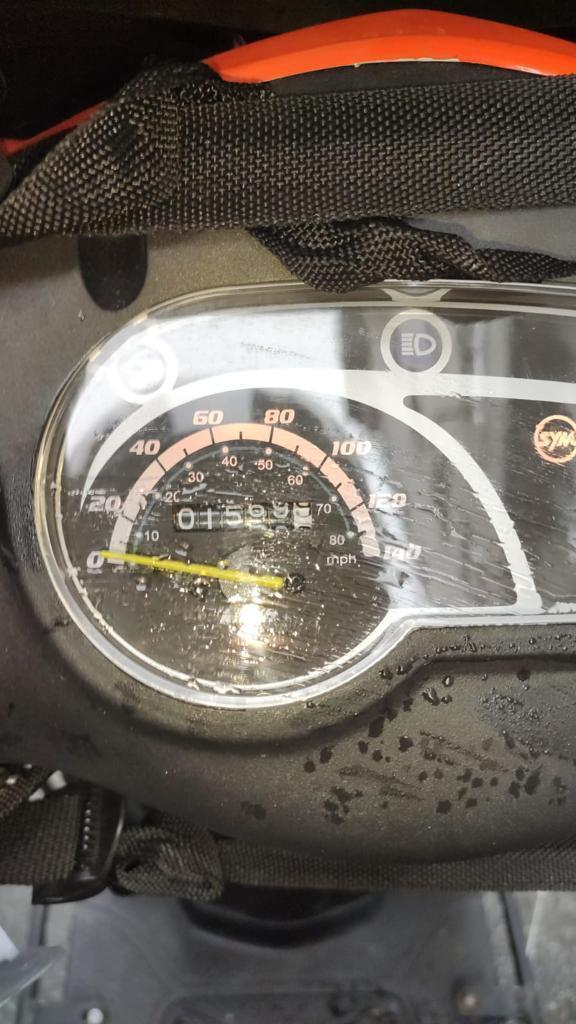0: (176, 505, 195, 529)
1: (203, 504, 215, 531)
5: (224, 502, 244, 525)
9: (248, 501, 268, 526), (294, 499, 314, 522), (272, 498, 289, 521)
odometer: (170, 498, 316, 534)
